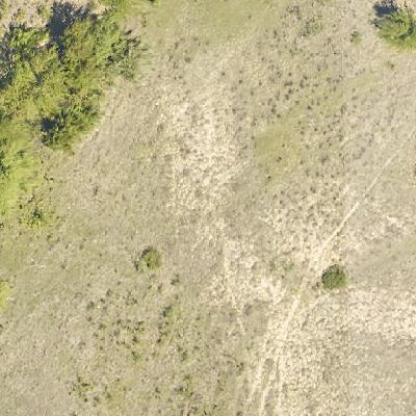tree-top: (57, 13, 150, 86), (0, 25, 66, 123), (44, 103, 101, 151), (370, 6, 415, 51)
